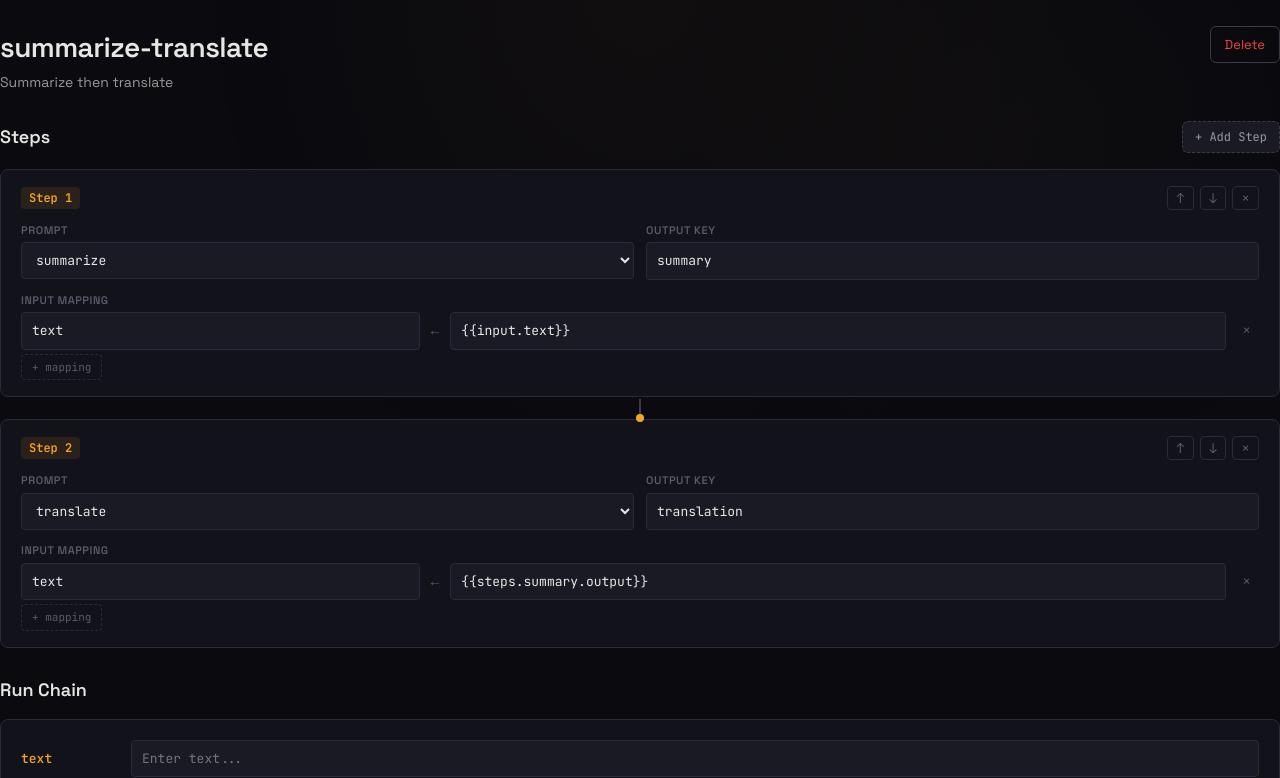
Test: ChainDetailPage › runs chain and shows results
This screenshot has width=1280, height=778.
Fill input
Type "hello world" into the field with placeholder "Enter text..." at (695, 758), box [131,740,1259,777]
(page scrolled)
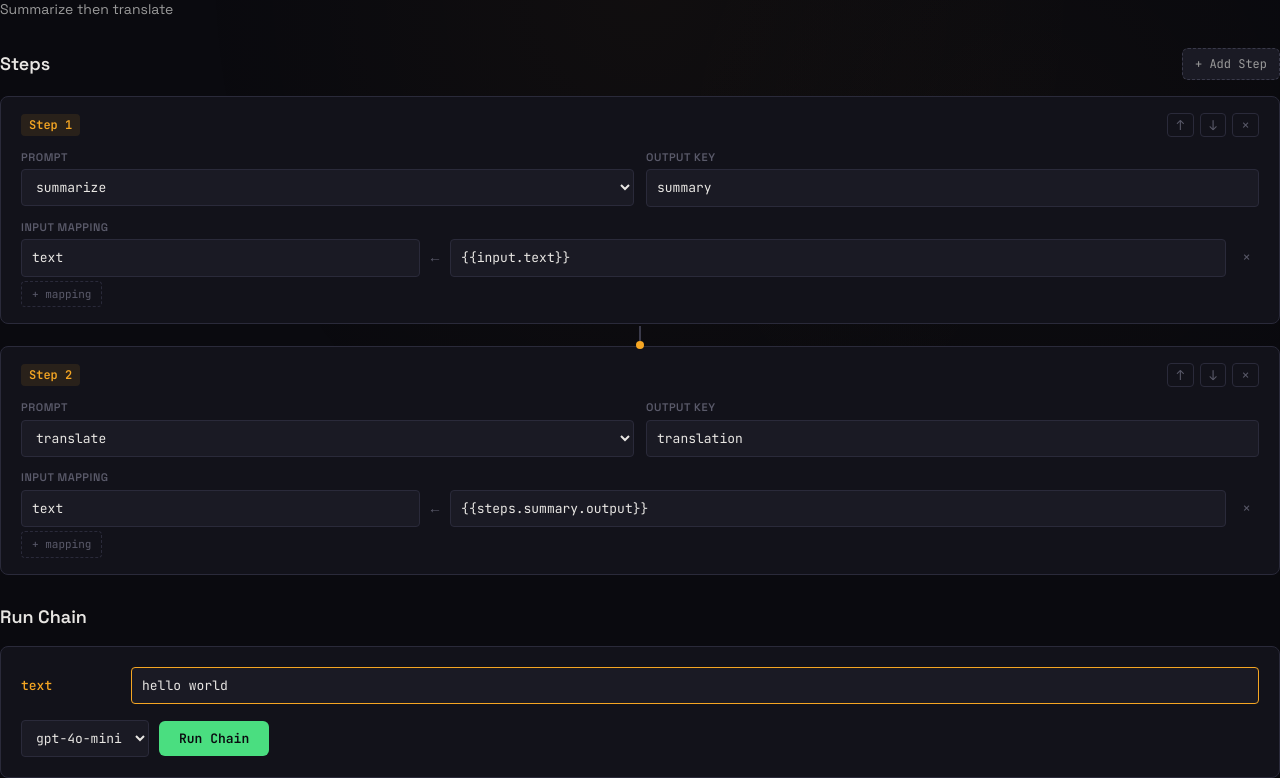
Click run
Click the button "Run Chain" at (214, 739), box [159,721,269,756]
(page scrolled)
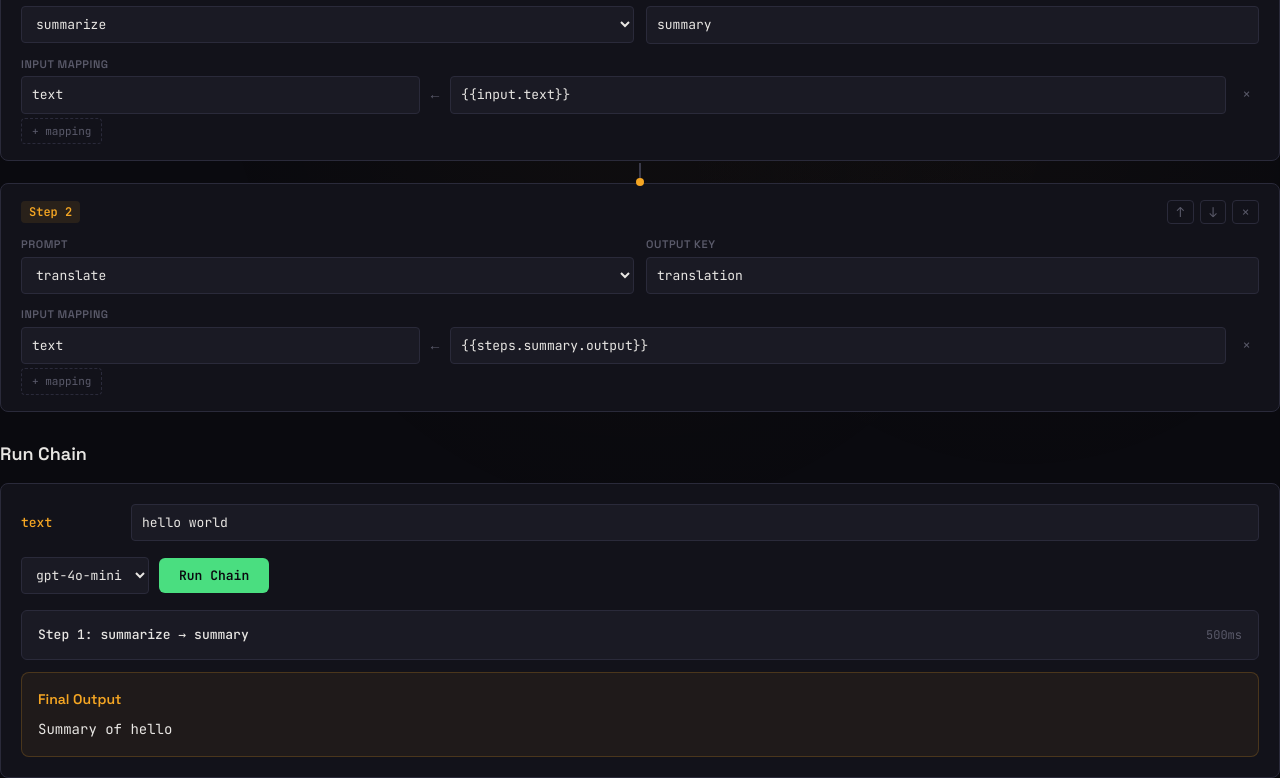
Now the text "Final Output" is shown, box [38,690,122,708]
Now the text "Summary of hello" is shown, box [38,720,172,738]
